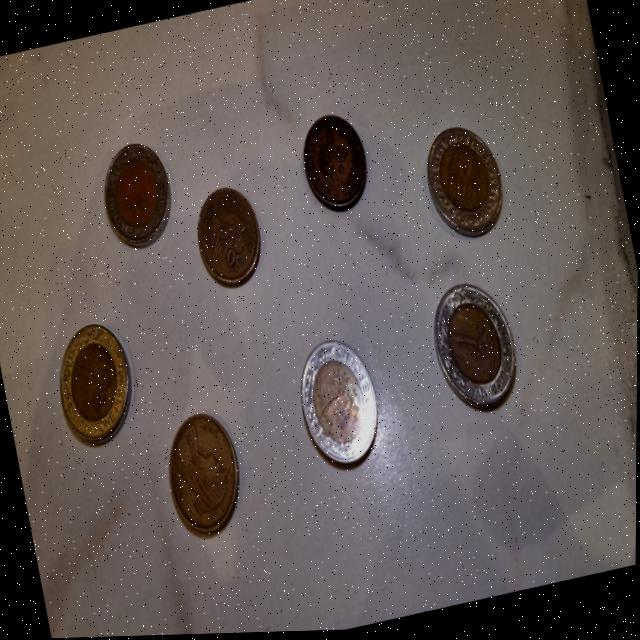Half Pound: (159, 417, 250, 540), (294, 113, 375, 218), (193, 193, 267, 282)
One Pound: (284, 335, 403, 478), (45, 313, 146, 450), (426, 292, 532, 419), (417, 125, 519, 238), (92, 136, 183, 258)
